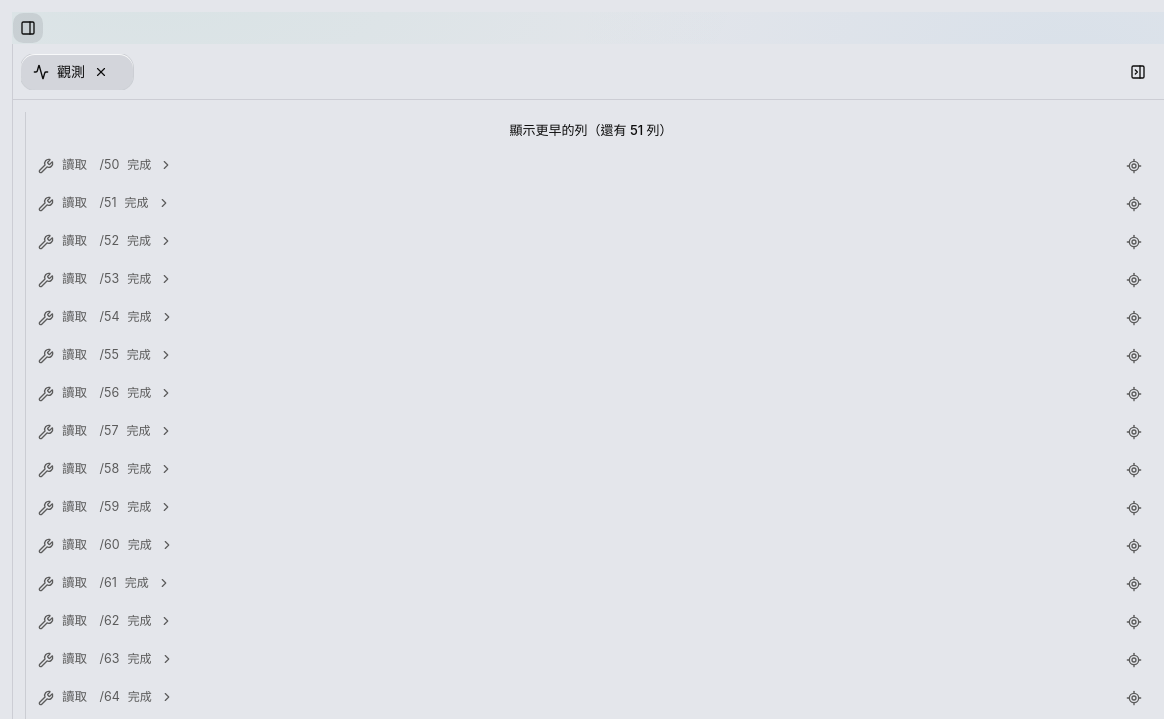
Scenario: 觀測分頁：結構化模式 › 一組裡的列數有上限：一輪幾百次呼叫只畫最新的一段，其餘按「顯示更早的列」才出來
The width and height of the screenshot is (1164, 719).
expect the text "做很多事" is not shown: met
Step 1. Click the button with test id "trace-more-rows" → (591, 130), box [30, 112, 1152, 148]
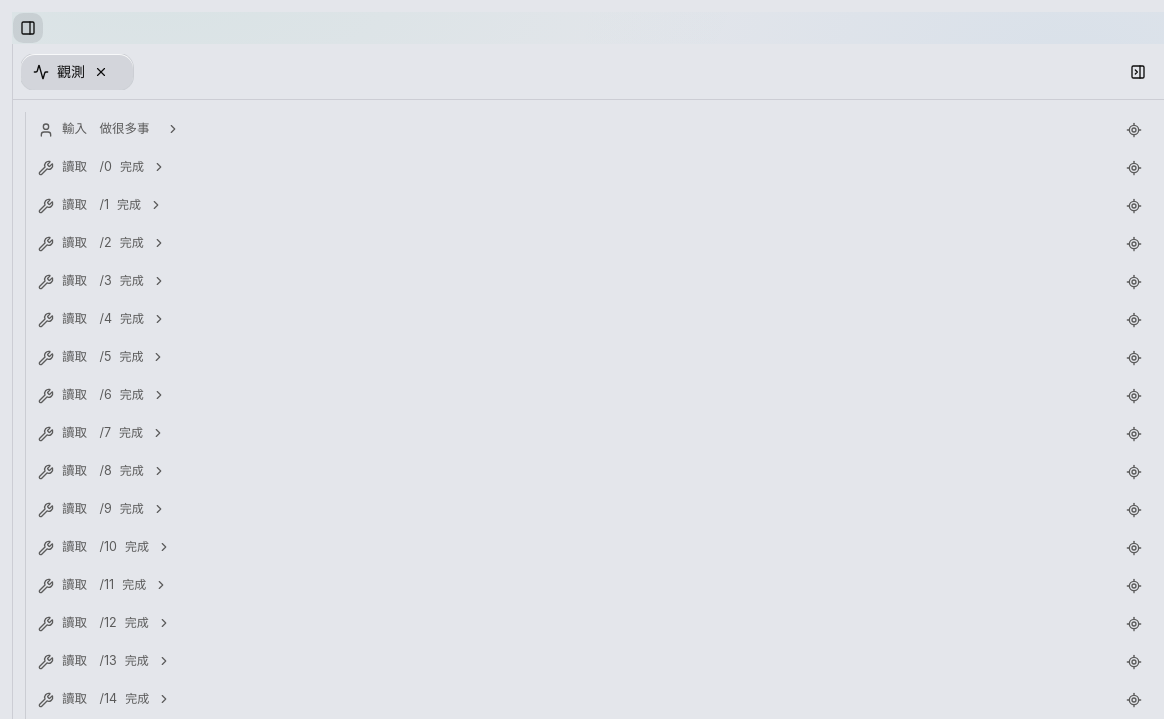
expect the button with test id "trace-more-rows" is gone: met
expect the text "輸入 做很多事" is shown: met, box [62, 120, 150, 139]
